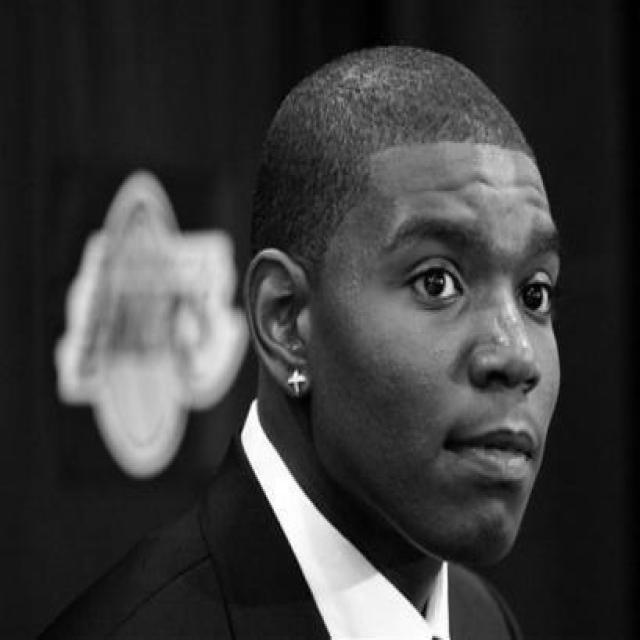real: (247, 139, 568, 577)
